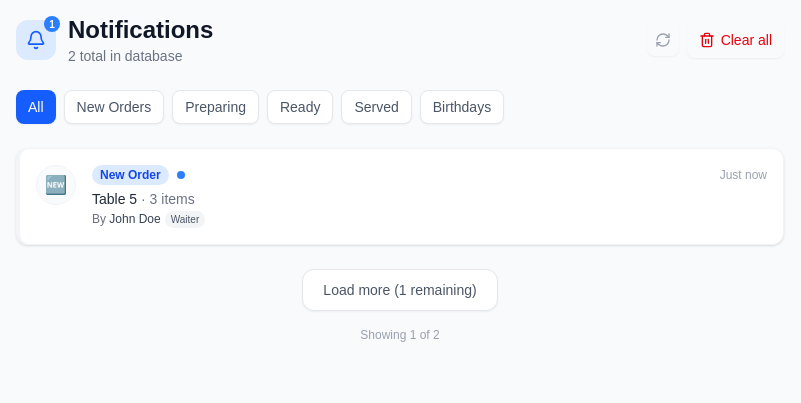
NotificationsPage › appends next page records when 'Load more' is clicked
Expected: the text "New Order" is shown, [92,165,169,185]
Click the button "Load more (1 remaining)". click: point(400, 290)
box: [302,269,498,311]
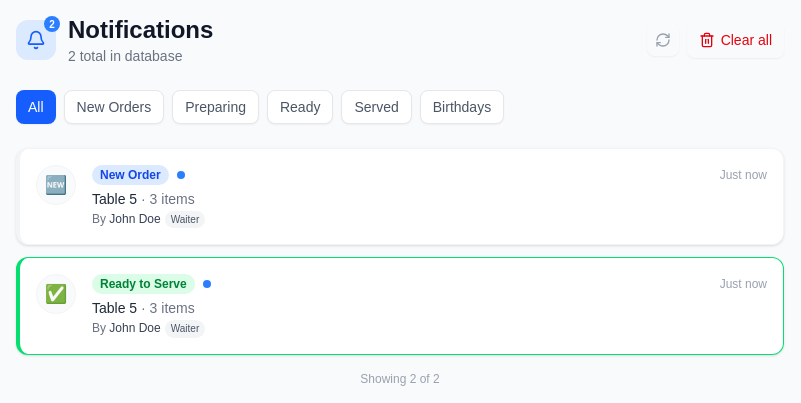
Expected: the text "New Order" is shown, [92,165,169,185]
Expected: the text "Ready to Serve" is shown, [92,274,195,294]
